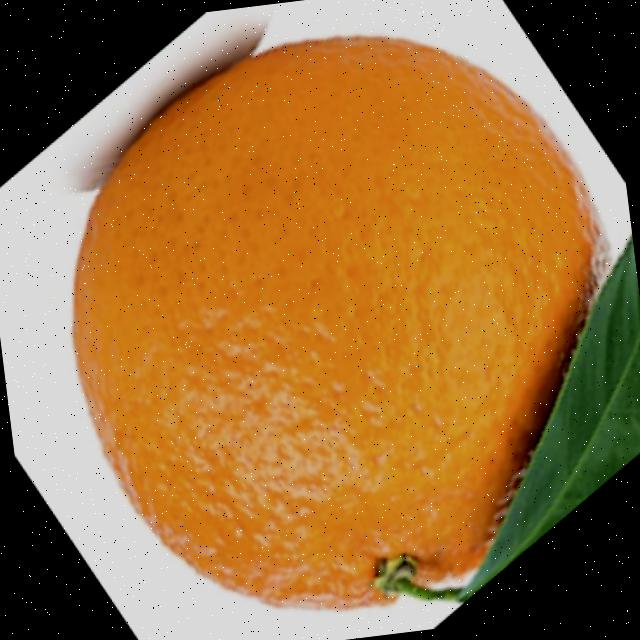orange: (36, 3, 640, 640)
